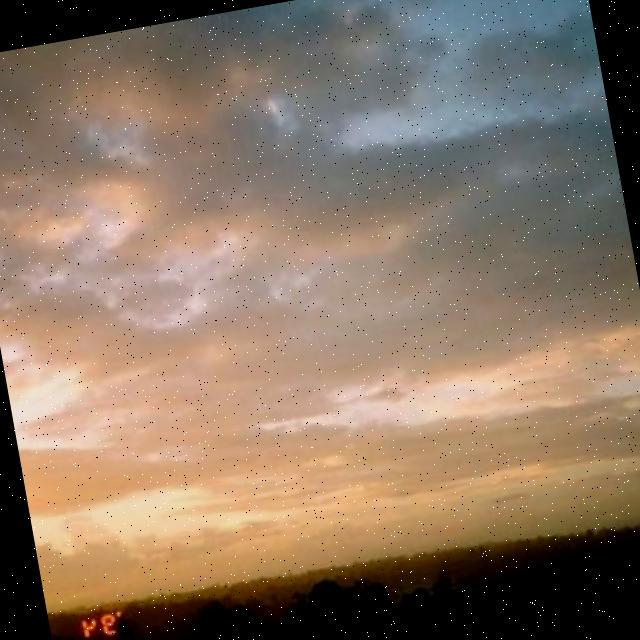Sc: (1, 1, 640, 544)
